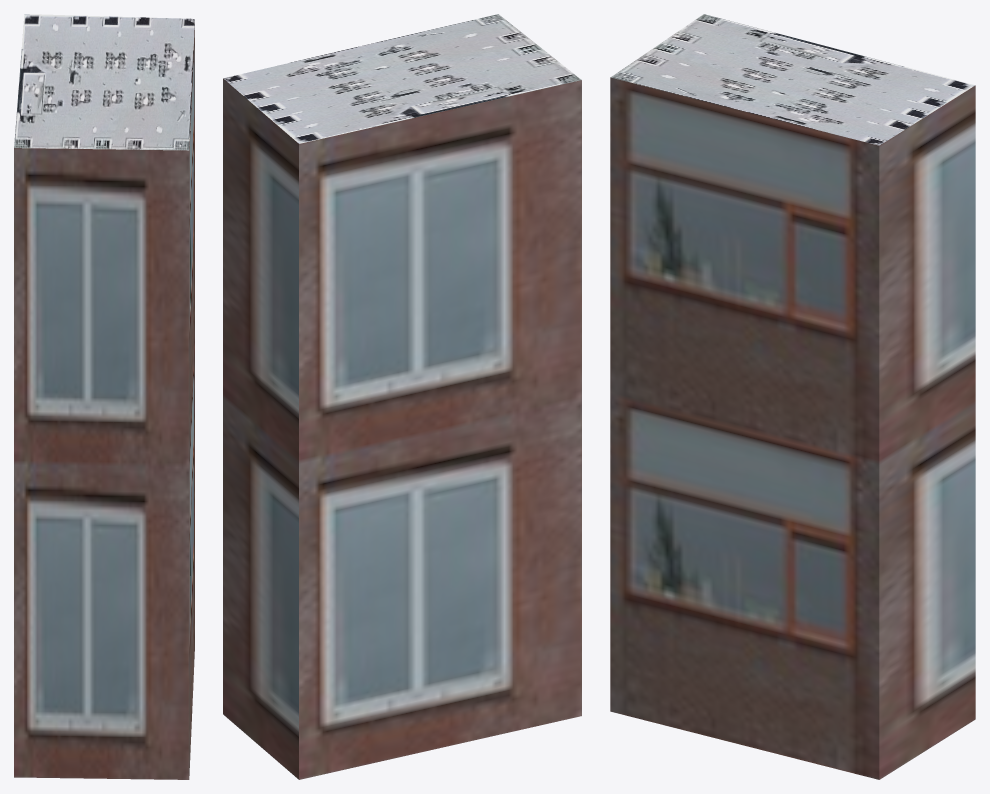
File: ResTex__2313.fbx
The picture shows the model from 3 angles, left to right: view 1: azimuth 30°, elevation 25°; view 2: azimuth 150°, elevation 25°; view 3: azimuth 270°, elevation 25°; orthographic projection.
Visible parts, largest first — view 1: CityEngineMaterial_19_m, CityEngineMaterial_4_m; view 2: CityEngineMaterial_19_m, CityEngineMaterial_4_m; view 3: CityEngineMaterial_19_m, CityEngineMaterial_4_m.
Boxes of the visible parts, box(x1,y1,x2,y2) form: CityEngineMaterial_19_m: box(14, 22, 194, 779); CityEngineMaterial_4_m: box(14, 14, 194, 150); CityEngineMaterial_19_m: box(223, 78, 581, 779); CityEngineMaterial_4_m: box(223, 14, 581, 143); CityEngineMaterial_19_m: box(610, 77, 975, 779); CityEngineMaterial_4_m: box(611, 14, 974, 145).
Size of the model in its own units: 2.67 by 6 by 3.13.
2 materials, 2 textured.
